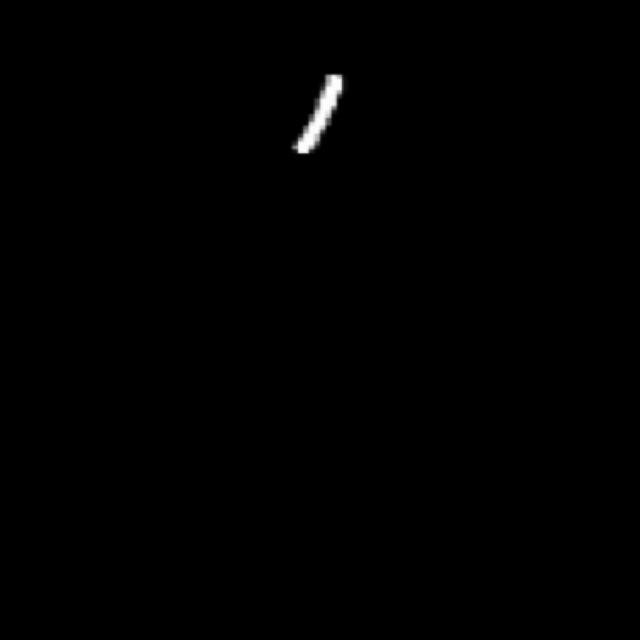one -1-: (275, 64, 356, 163)
